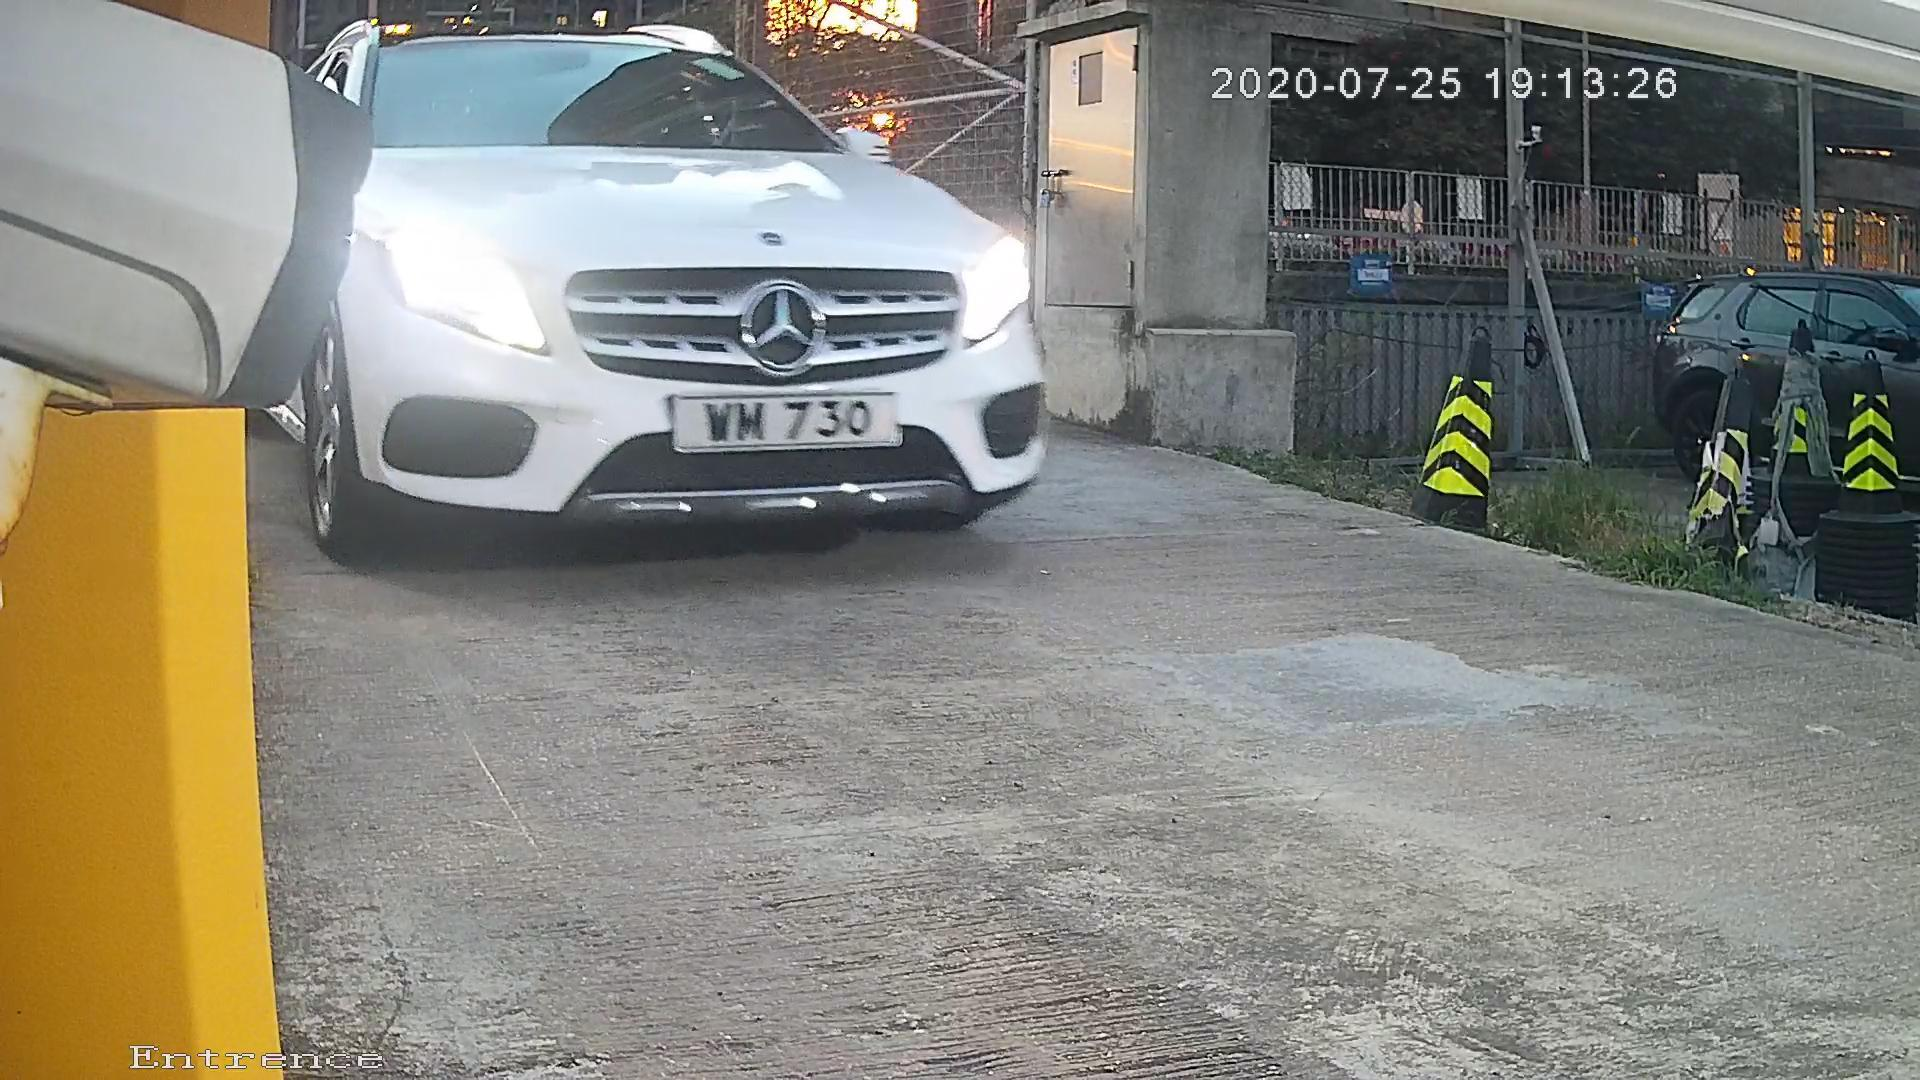privatecar: (232, 11, 1175, 564)
